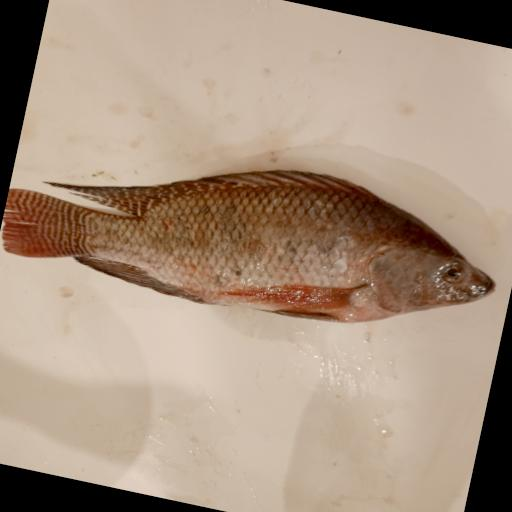Tilapia: (0, 109, 512, 363)
